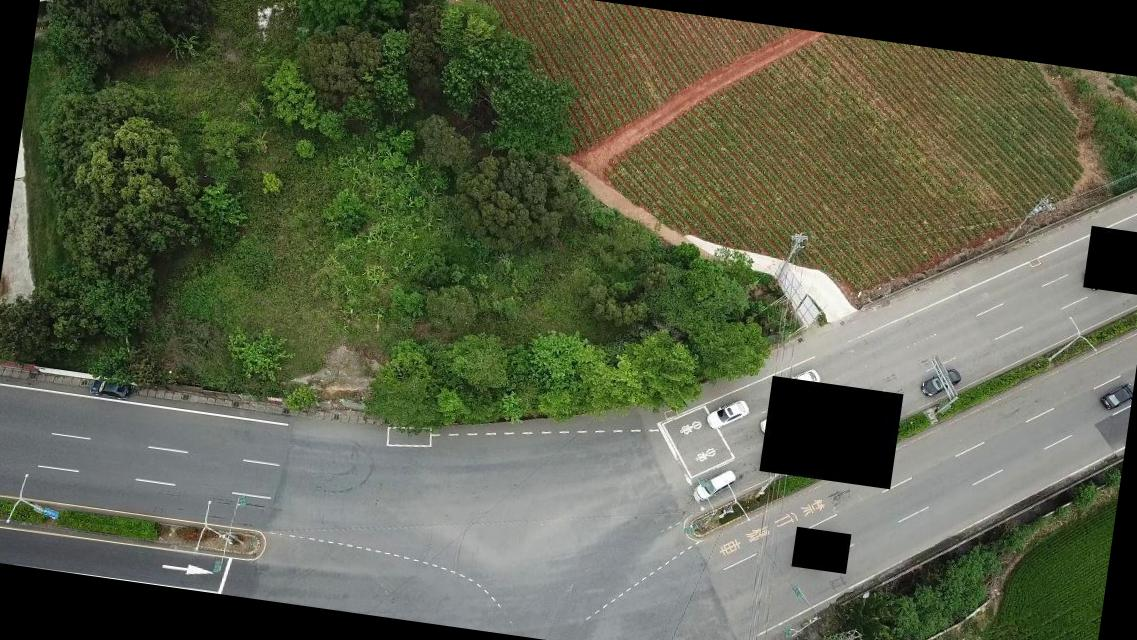vehicle: (691, 463, 743, 508), (918, 362, 962, 403), (702, 394, 748, 433), (758, 401, 804, 436), (778, 363, 820, 401), (1097, 378, 1134, 413), (88, 379, 132, 403)
